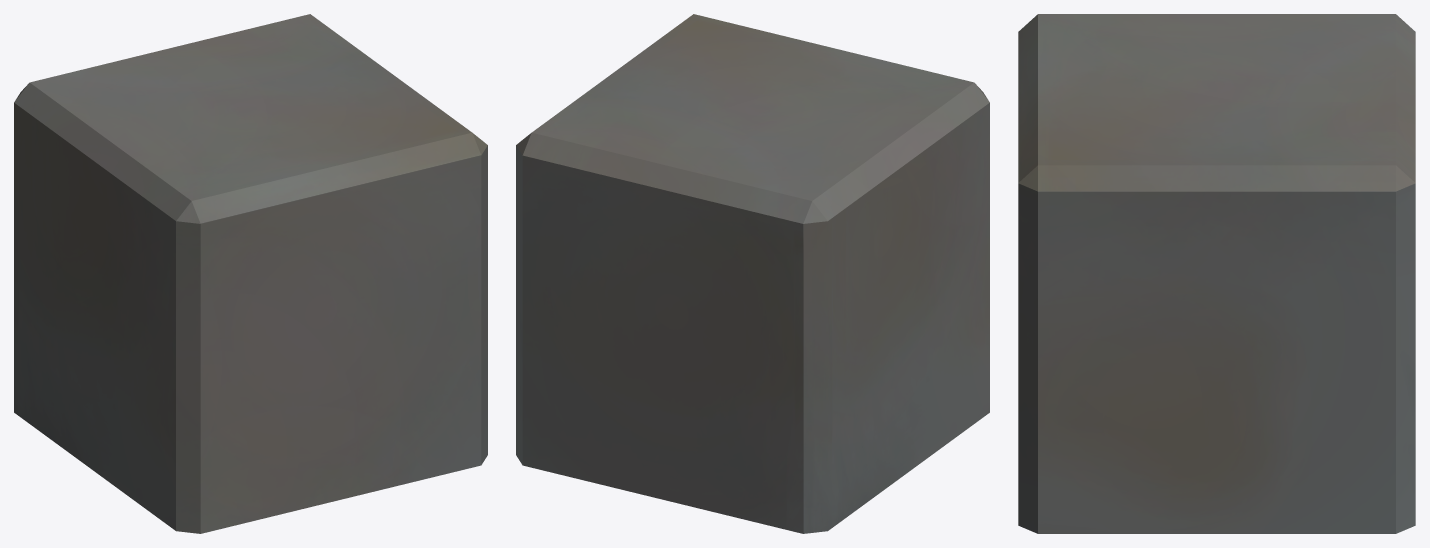
File: Concrete.fbx
3 views of the same model, side by side, from view 1: azimuth 30°, elevation 25°; view 2: azimuth 150°, elevation 25°; view 3: azimuth 270°, elevation 25° (orthographic). The views are drawn at different scales.
Parts seen in each view (by area): view 1: Cube; view 2: Cube; view 3: Cube.
Part boxes in pixels (box(x1,y1,x2,y2)): Cube: box(14, 14, 487, 533); Cube: box(516, 14, 989, 533); Cube: box(1018, 14, 1415, 533).
Size of the model in its own units: 200 by 200 by 200.
